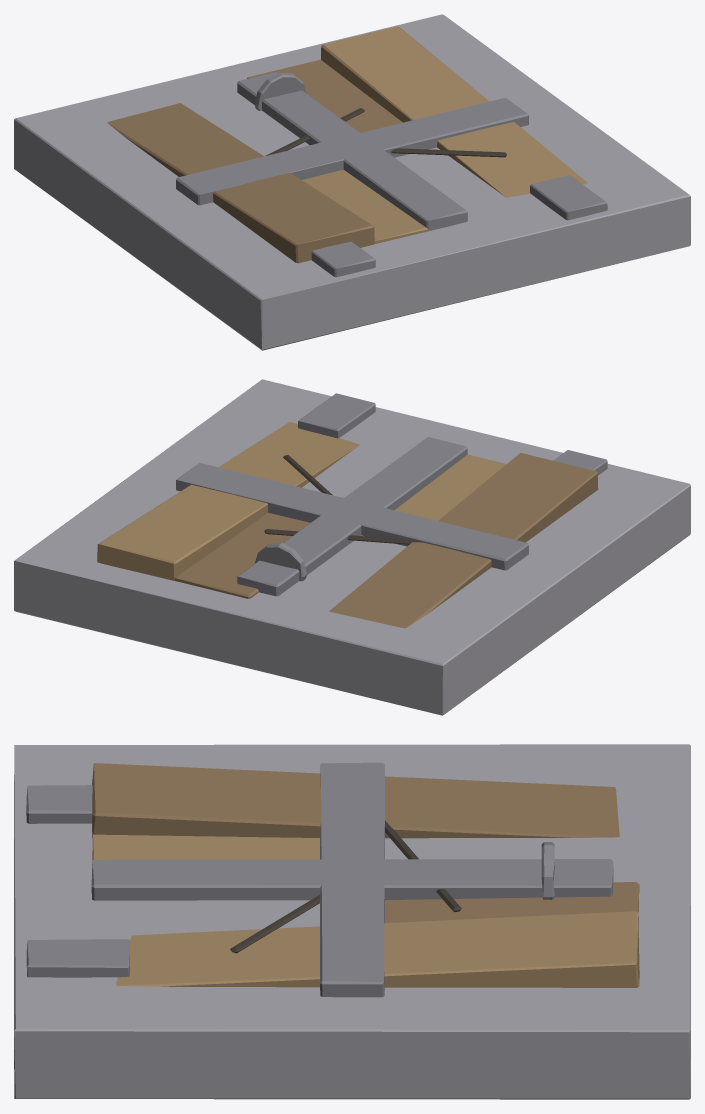
File: dgn_trapdoor.glb
3 views of the same model, one above another, from view 1: azimuth 30°, elevation 25°; view 2: azimuth 150°, elevation 25°; view 3: azimuth 270°, elevation 25° (orthographic). The views are drawn at different scales.
Parts seen in each view (by area): view 1: dgn_trapdoor; view 2: dgn_trapdoor; view 3: dgn_trapdoor.
Part boxes in pixels (box(x1,y1,x2,y2)): dgn_trapdoor: box(14, 14, 690, 350); dgn_trapdoor: box(14, 379, 690, 715); dgn_trapdoor: box(14, 744, 690, 1099).
Bounding box in the file's own units: 1.04 × 0.19 × 1.04.
